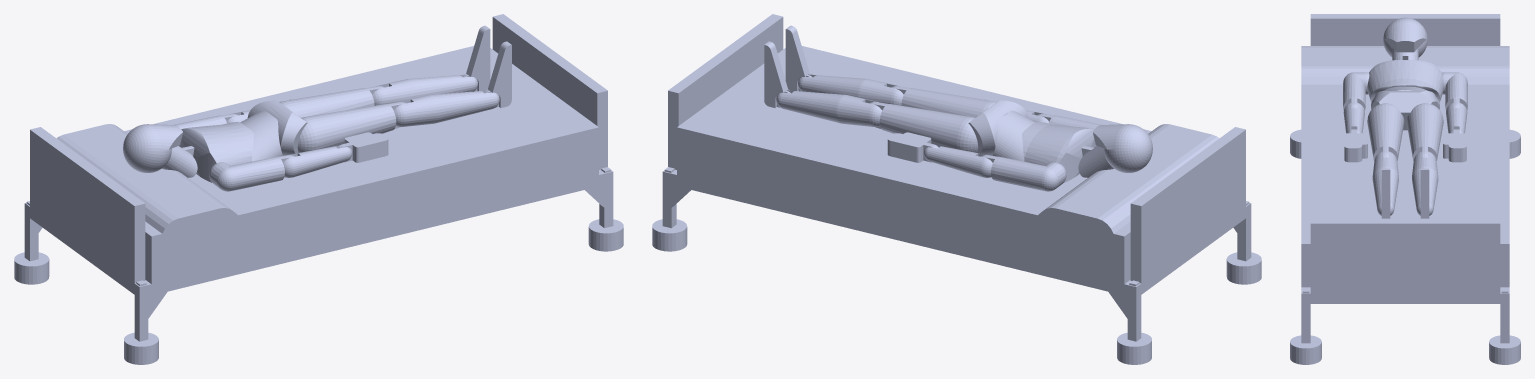
Rendered from bed_and_body.dae.
The picture shows the model from 3 angles, left to right: view 1: azimuth 30°, elevation 25°; view 2: azimuth 150°, elevation 25°; view 3: azimuth 270°, elevation 25°; orthographic projection. The views are drawn at different scales.
Parts seen in each view (by area): view 1: bed_frame_link, leg_rest_lower, head_rest_link, leg_rest_upper, base_link, quad_right_link, upper_body_link, calf_right_link, head_link, calf_left_link, arm_right_link, quad_left_link (+8 smaller); view 2: bed_frame_link, leg_rest_lower, head_rest_link, leg_rest_upper, base_link, quad_left_link, upper_body_link, calf_left_link, head_link, calf_right_link, arm_left_link, quad_right_link (+7 smaller); view 3: bed_frame_link, leg_rest_lower, head_rest_link, leg_rest_upper, base_link, upper_body_link, quad_left_link, quad_right_link, head_link, calf_left_link, calf_right_link, lower_body_link (+10 smaller).
Boxes of the visible parts, left/top/right/bottom form: bed_frame_link: left=24, top=14, right=613, bottom=341; leg_rest_lower: left=335, top=46, right=598, bottom=211; head_rest_link: left=56, top=114, right=307, bottom=284; leg_rest_upper: left=254, top=80, right=448, bottom=230; base_link: left=14, top=167, right=623, bottom=364; quad_right_link: left=297, top=102, right=406, bottom=152; upper_body_link: left=179, top=122, right=253, bottom=182; calf_right_link: left=393, top=90, right=499, bottom=126; head_link: left=123, top=124, right=182, bottom=172; calf_left_link: left=372, top=74, right=477, bottom=105; arm_right_link: left=209, top=155, right=294, bottom=191; quad_left_link: left=279, top=86, right=384, bottom=117; bed_frame_link: left=662, top=14, right=1251, bottom=341; leg_rest_lower: left=677, top=46, right=940, bottom=211; head_rest_link: left=968, top=114, right=1219, bottom=284; leg_rest_upper: left=827, top=80, right=1021, bottom=230; base_link: left=652, top=167, right=1261, bottom=364; quad_left_link: left=870, top=101, right=978, bottom=152; upper_body_link: left=1022, top=122, right=1096, bottom=182; calf_left_link: left=776, top=90, right=882, bottom=126; head_link: left=1093, top=124, right=1152, bottom=172; calf_right_link: left=798, top=74, right=903, bottom=105; arm_left_link: left=981, top=155, right=1066, bottom=191; quad_right_link: left=891, top=86, right=996, bottom=117; bed_frame_link: left=1301, top=14, right=1509, bottom=343; leg_rest_lower: left=1301, top=177, right=1509, bottom=287; head_rest_link: left=1301, top=46, right=1509, bottom=115; leg_rest_upper: left=1301, top=142, right=1509, bottom=177; base_link: left=1290, top=129, right=1520, bottom=364; upper_body_link: left=1367, top=60, right=1443, bottom=102; quad_left_link: left=1406, top=103, right=1443, bottom=160; quad_right_link: left=1367, top=103, right=1404, bottom=160; head_link: left=1383, top=17, right=1427, bottom=57; calf_left_link: left=1412, top=151, right=1438, bottom=215; calf_right_link: left=1372, top=151, right=1398, bottom=215; lower_body_link: left=1376, top=91, right=1437, bottom=112.
Bounding box in the file's own units: 2.28 × 1.01 × 0.7992.
